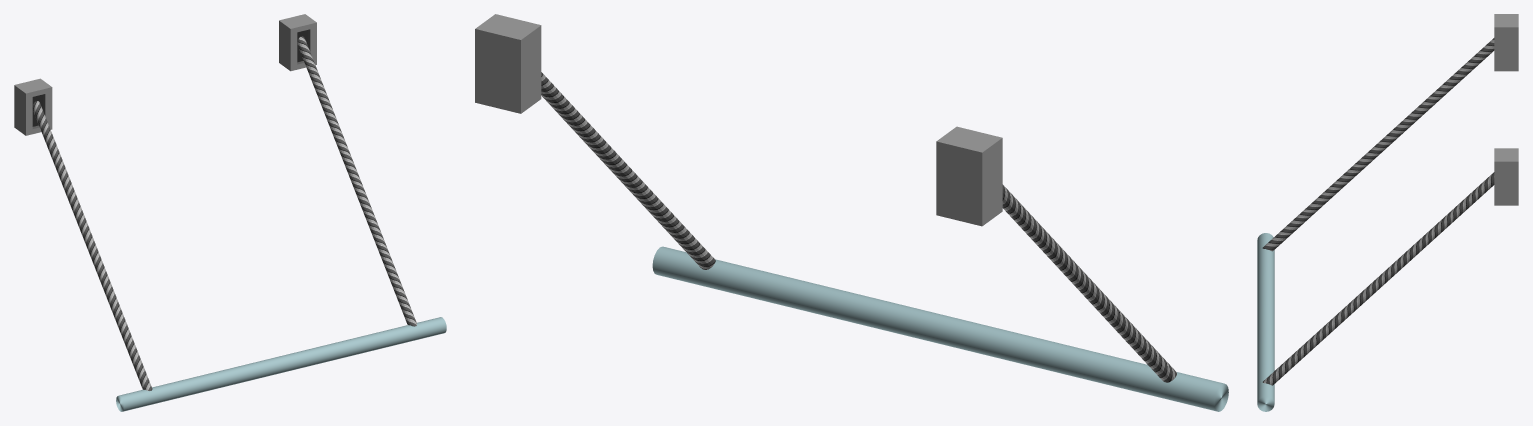
File: WallSupportBeam.fbx
The picture shows the model from 3 angles, left to right: view 1: azimuth 30°, elevation 25°; view 2: azimuth 150°, elevation 25°; view 3: azimuth 270°, elevation 25°; orthographic projection. The views are drawn at different scales.
Visible parts, largest first — view 1: SteelSupportBeam, HouseCable1, HouseCable2, CableWallPlug.001, CableWallPlug; view 2: SteelSupportBeam, CableWallPlug.001, CableWallPlug, HouseCable2, HouseCable1; view 3: HouseCable2, HouseCable1, SteelSupportBeam, CableWallPlug, CableWallPlug.001.
Part boxes in pixels (x1,y1,x2,y2): SteelSupportBeam: (116, 317, 446, 411); HouseCable1: (297, 36, 416, 326); HouseCable2: (32, 101, 152, 390); CableWallPlug.001: (14, 78, 52, 135); CableWallPlug: (279, 14, 316, 71); SteelSupportBeam: (652, 246, 1228, 411); CableWallPlug.001: (936, 126, 1002, 226); CableWallPlug: (475, 14, 541, 113); HouseCable2: (1002, 184, 1176, 382); HouseCable1: (541, 72, 715, 269); HouseCable2: (1262, 38, 1494, 251); HouseCable1: (1262, 172, 1494, 385); SteelSupportBeam: (1257, 233, 1274, 411); CableWallPlug: (1494, 148, 1518, 205); CableWallPlug.001: (1494, 14, 1518, 71).
Size of the model in its own units: 79.63 by 53.84 by 55.1.
